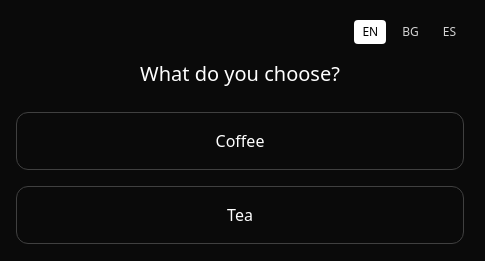
it: App i18n › switches to Spanish when ES button is clicked
Expected: the heading "What do you choose?" is shown, [140, 60, 340, 87]
Click the button "ES" at (449, 32), box [435, 20, 464, 44]
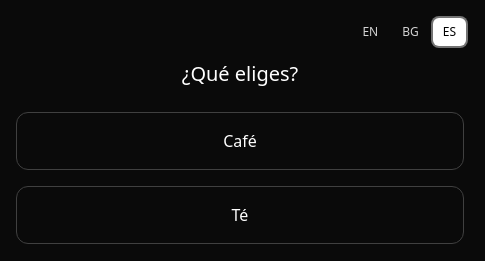
Result: the heading "¿Qué eliges?" is shown at [182, 60, 298, 87]
Result: the button "Café" is shown at [16, 112, 464, 170]
Result: the button "Té" is shown at [16, 186, 464, 244]
